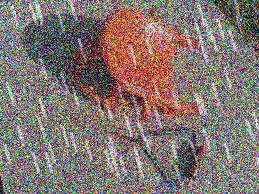chock: (69, 8, 202, 124)
